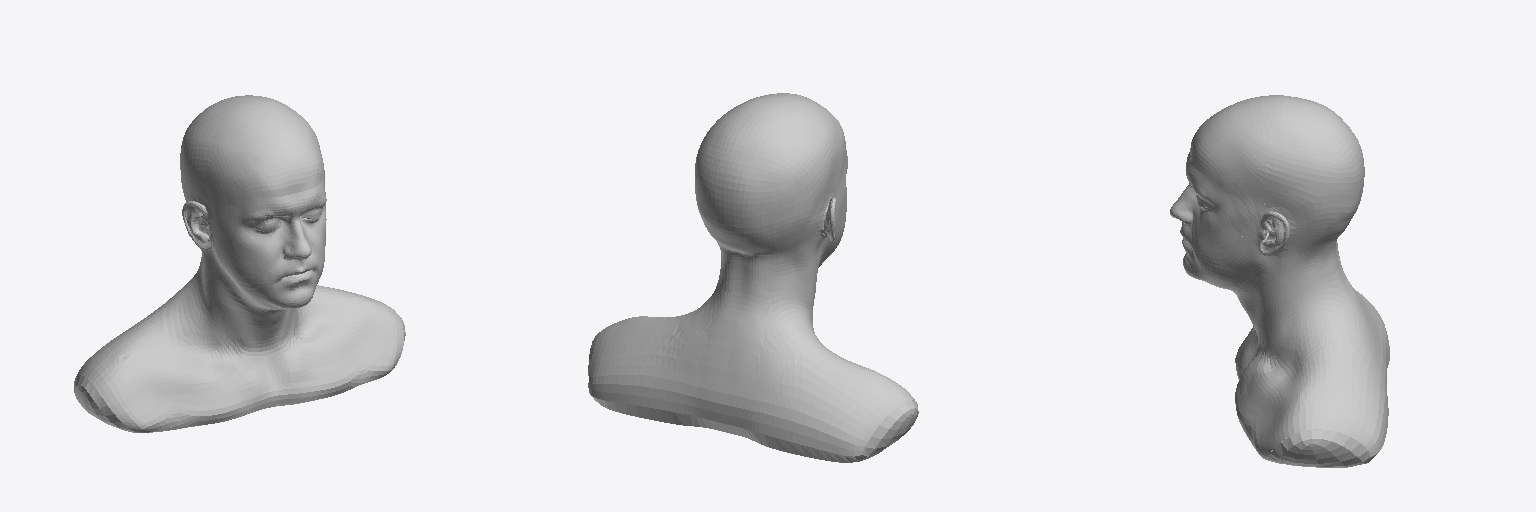
File: head_subdivided_smooth.obj
3 renders of one model, left to right at view 1: azimuth 30°, elevation 25°; view 2: azimuth 150°, elevation 25°; view 3: azimuth 270°, elevation 25°, orthographic.
Parts seen in each view (by area): view 1: Group2.001, Group19.001, Group14.001, Group4.001, Group5.001; view 2: Group2.001, Group4.001, Group19.001, Group5.001; view 3: Group2.001, Group19.001, Group14.001, Group4.001, Group5.001.
Part boxes in pixels (x1,y1,x2,y2): Group2.001: (74,95,403,432); Group19.001: (205,144,326,277); Group14.001: (214,236,325,309); Group4.001: (74,315,405,432); Group5.001: (182,194,214,249); Group2.001: (588,93,917,456); Group4.001: (588,332,918,462); Group19.001: (825,108,847,219); Group5.001: (817,187,835,240); Group2.001: (1210,95,1389,458); Group19.001: (1170,116,1266,244); Group14.001: (1182,226,1264,288); Group4.001: (1265,429,1376,467); Group5.001: (1254,203,1296,255).
Bounding box in the file's own units: 0.4533 × 0.4215 × 0.2746.